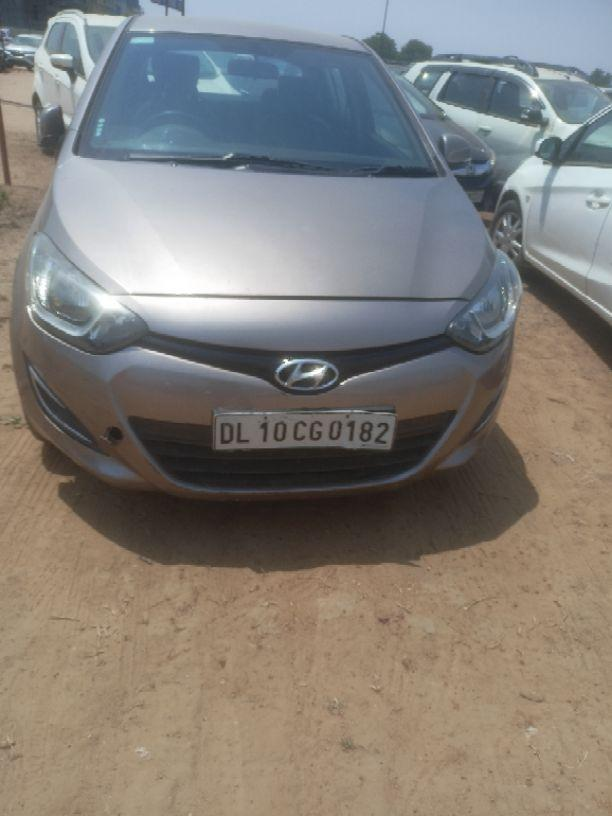license_plate: (210, 407, 397, 452)
